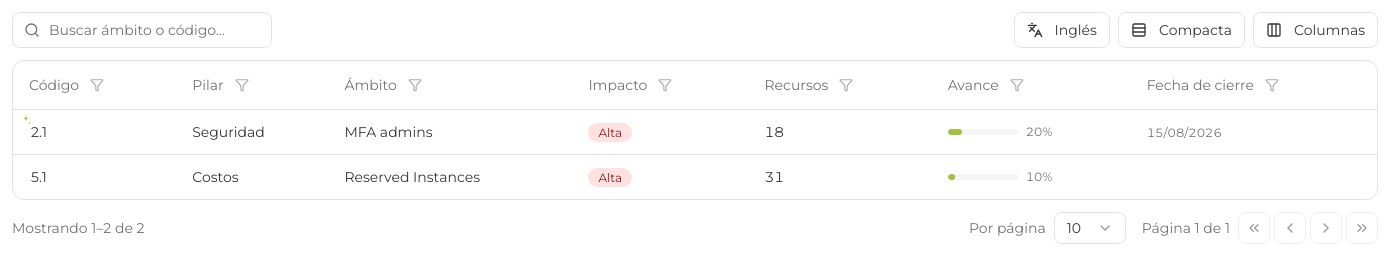
Test: el buscador encuentra por el texto original en inglés
Type "multi-factor" into the field with placeholder "Buscar ámbito o código…" at (142, 30), box [12,12,272,48]
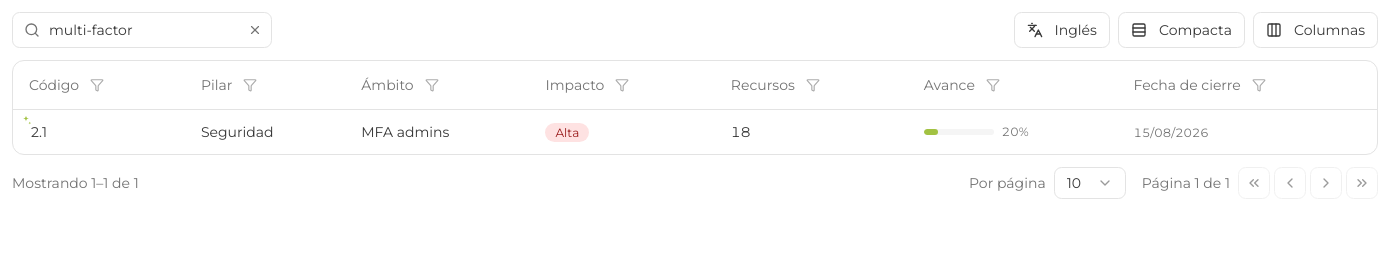
Expected: the text "MFA admins" is shown, [361,122,449,142]
Expected: the text "Reserved Instances" is gone
